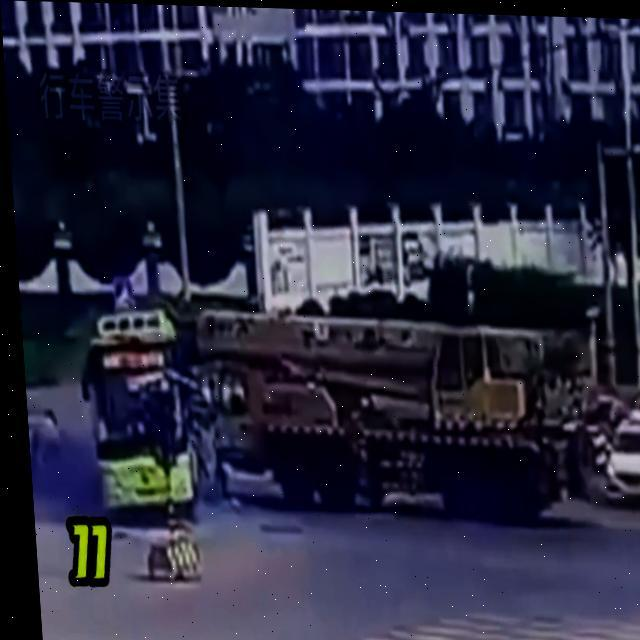multiple_accident: (42, 269, 590, 542)
